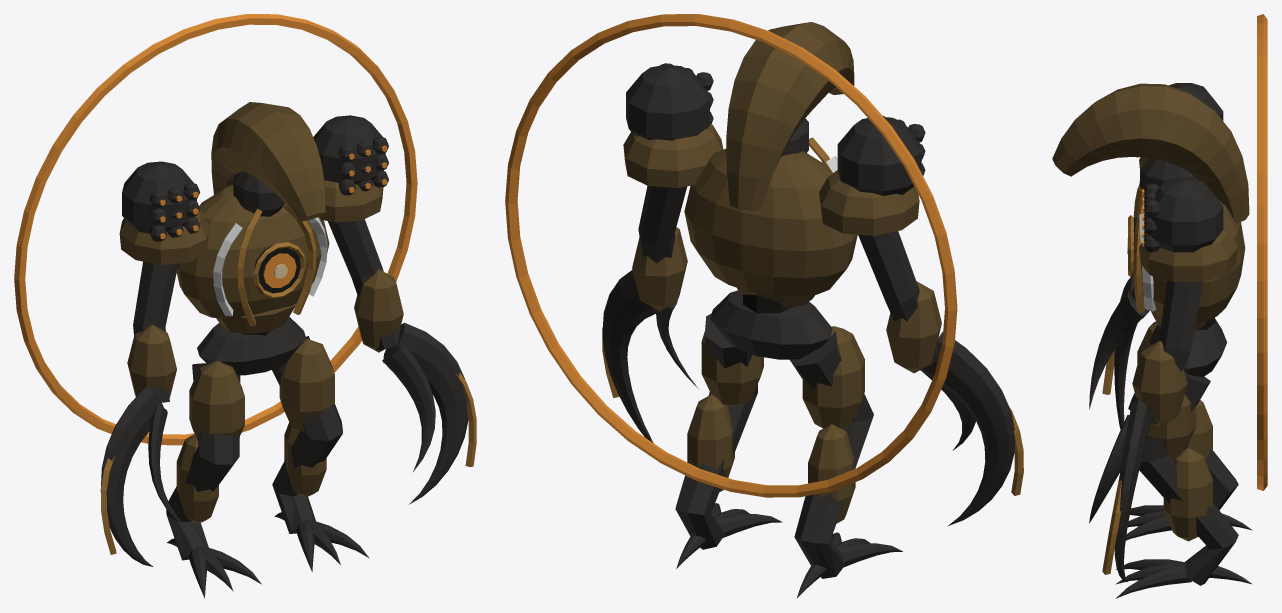
Rendered from striker_t3.glb.
3 views of the same model, side by side, from view 1: azimuth 30°, elevation 25°; view 2: azimuth 150°, elevation 25°; view 3: azimuth 270°, elevation 25° (orthographic). The views are drawn at different scales.
Visible parts, largest first — view 1: body; view 2: body; view 3: body.
Part boxes in pixels (bbox=[...]): body: bbox=[14, 14, 476, 598]; body: bbox=[505, 14, 1023, 598]; body: bbox=[1052, 14, 1267, 598].
Bounding box in the file's own units: 6.36 × 7.67 × 2.87.
